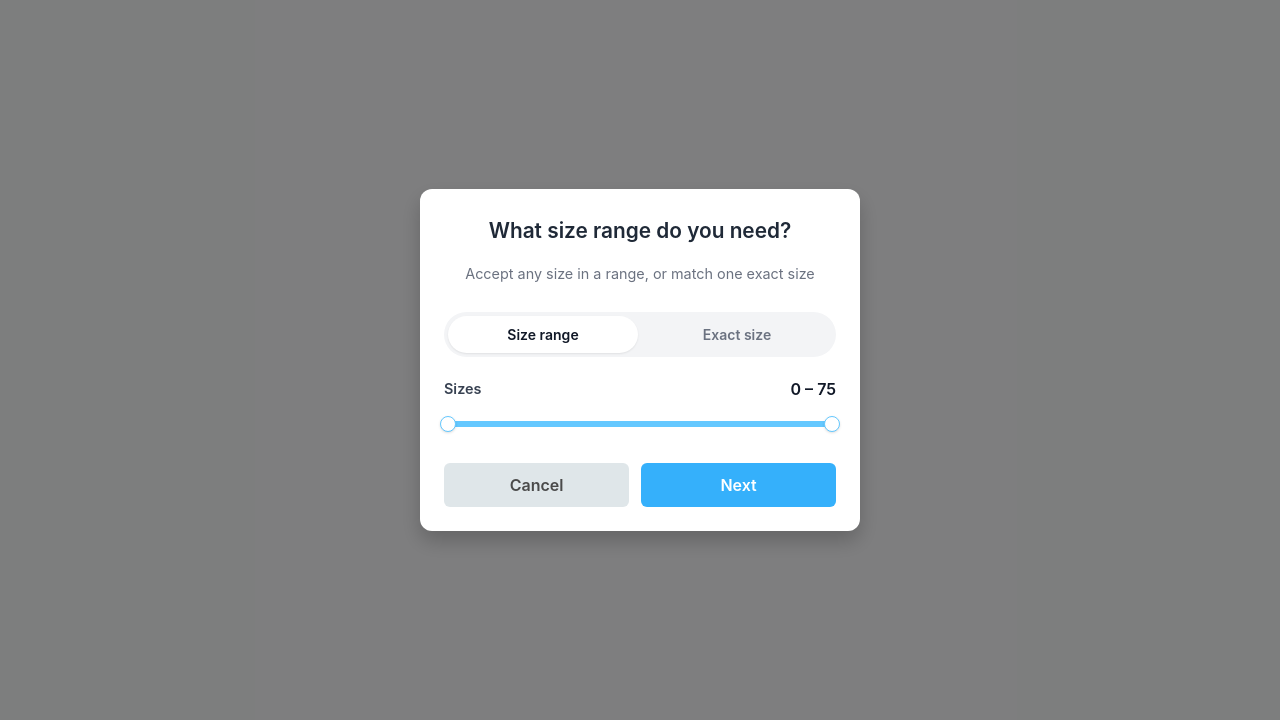
it: QuantityModal size availability › switches to exact-size mode and blocks Next until a value is entered
Check: the field with placeholder "e.g. 26.5" is not shown
Click the tab "Exact size" at (737, 335), box [642,316,832,353]
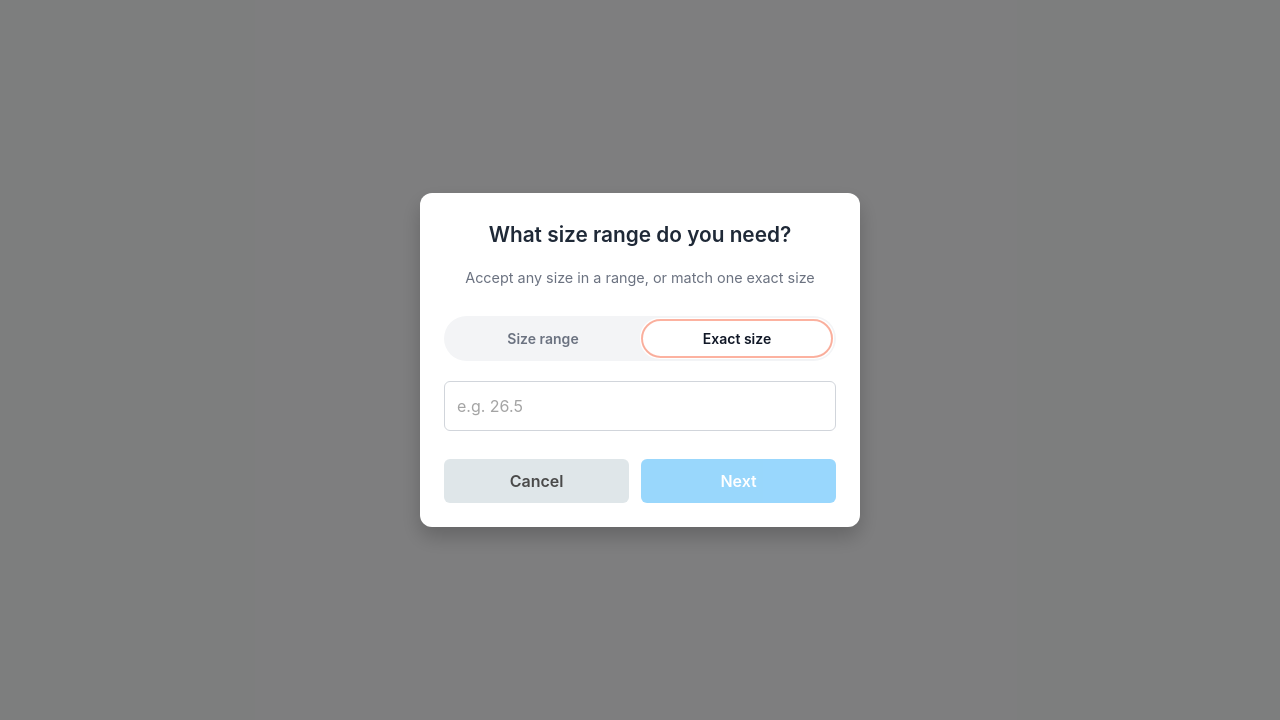
Check: the number field with placeholder "e.g. 26.5" is shown
Check: the button "Next" is disabled, box [641,459,836,503]
Type "26.5" into the number field with placeholder "e.g. 26.5" at (640, 406), box [444,381,836,431]
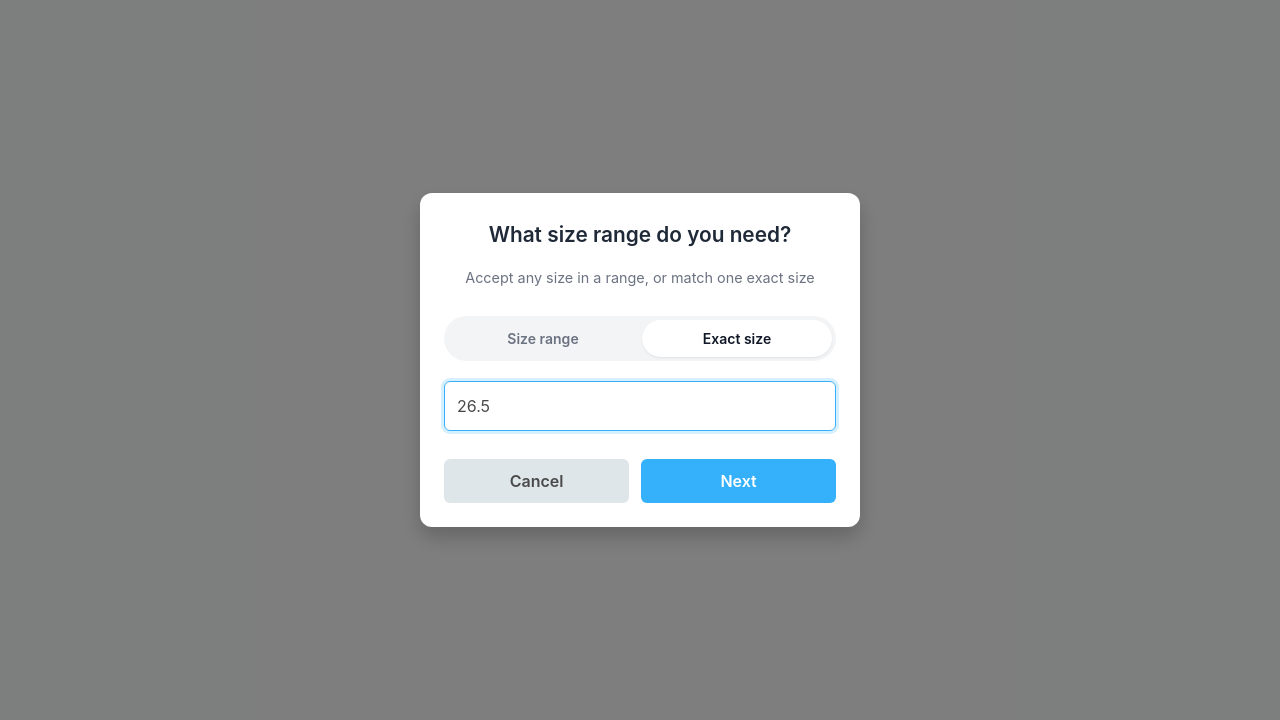
Check: the button "Next" is enabled, box [641,459,836,503]
